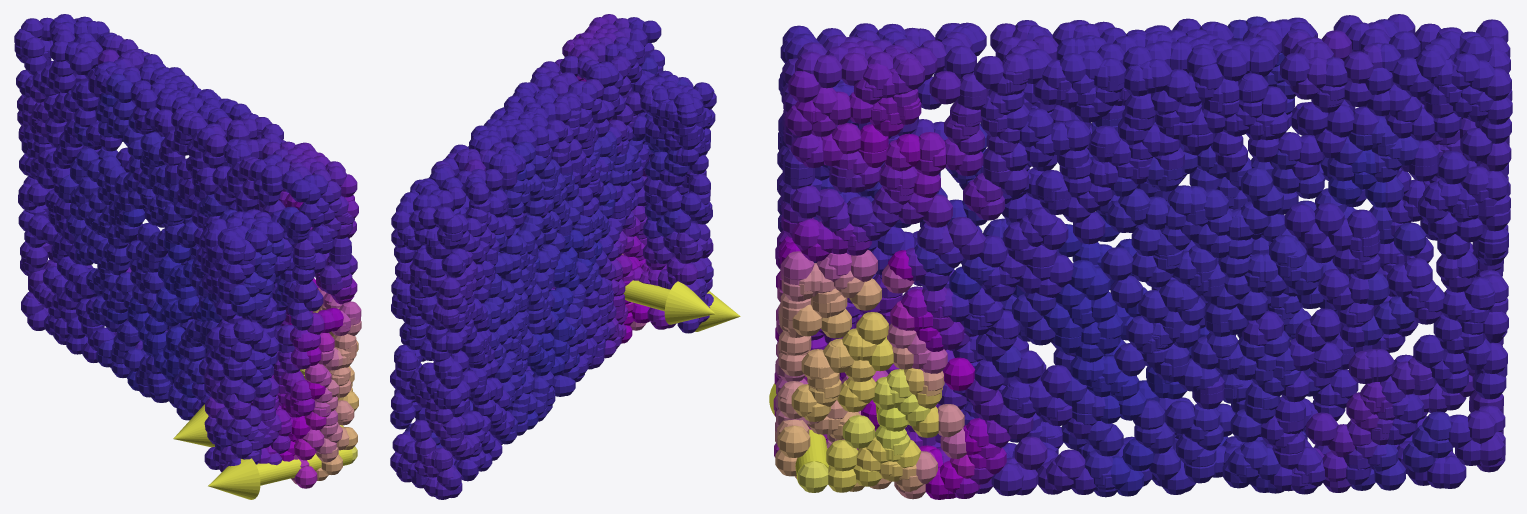
The model's file is pred_heatmap_2.glb.
3 views of the same model, side by side, from view 1: azimuth 30°, elevation 25°; view 2: azimuth 150°, elevation 25°; view 3: azimuth 270°, elevation 25° (orthographic). The views are drawn at different scales.
Visible parts, largest first — view 1: world; view 2: world; view 3: world.
Part boxes in pixels (bbox=[...]): world: bbox=[14, 14, 361, 499]; world: bbox=[390, 14, 740, 499]; world: bbox=[769, 14, 1512, 499].
Size of the model in its own units: 0.4602 by 0.8794 by 1.31.
